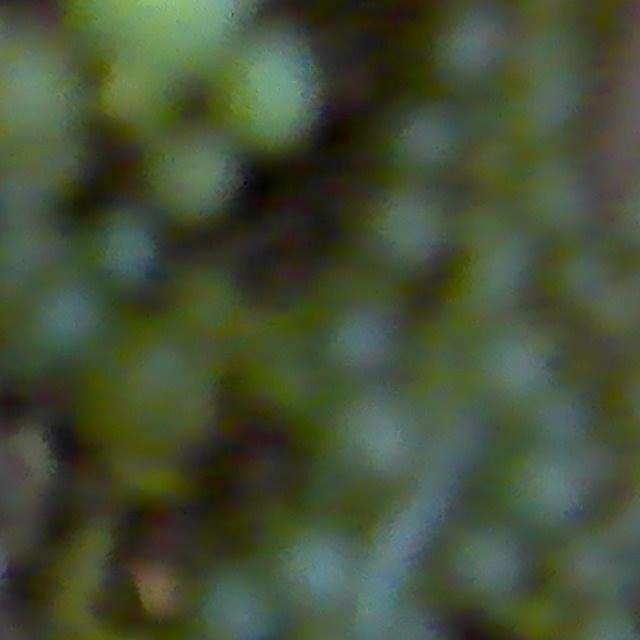SeaGrape: (100, 328, 224, 453), (209, 34, 321, 149), (323, 386, 428, 487), (498, 436, 597, 533), (464, 315, 560, 413), (0, 36, 83, 145), (500, 49, 593, 146), (148, 129, 239, 225), (363, 179, 454, 274), (440, 525, 540, 608), (447, 230, 539, 317), (20, 279, 110, 366), (386, 97, 472, 181), (514, 155, 598, 241), (448, 12, 531, 99), (319, 295, 403, 380), (556, 527, 640, 607), (100, 57, 179, 135), (196, 570, 279, 640), (87, 208, 158, 288), (278, 537, 343, 609), (546, 239, 611, 311), (589, 276, 640, 348), (513, 592, 570, 640)
